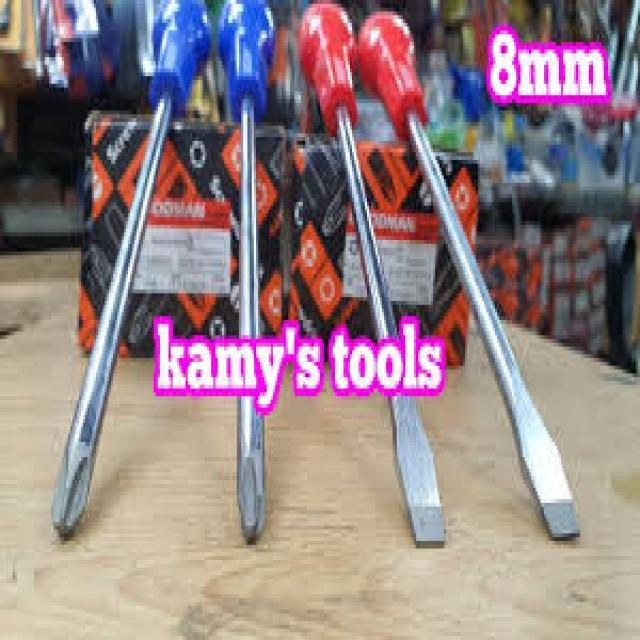screwdriver: (354, 2, 584, 543), (49, 0, 211, 549), (300, 0, 450, 556), (213, 0, 277, 533)
